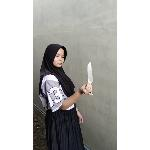Pisau: (84, 58, 96, 98)
